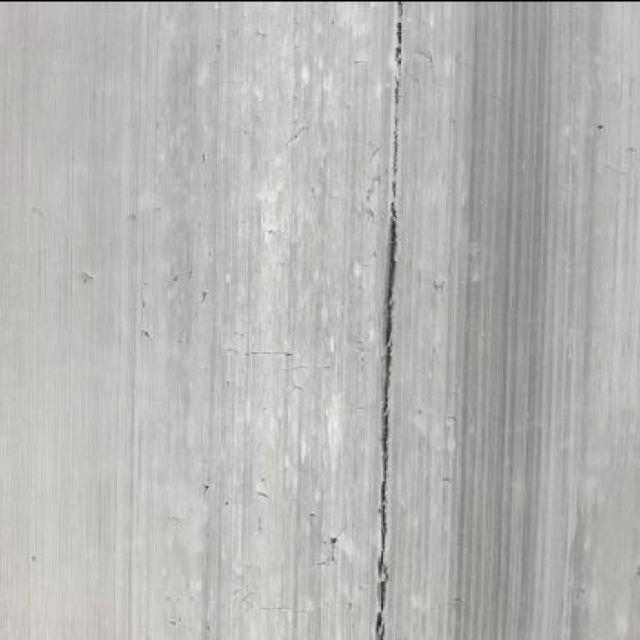Tear: (364, 0, 409, 640)
